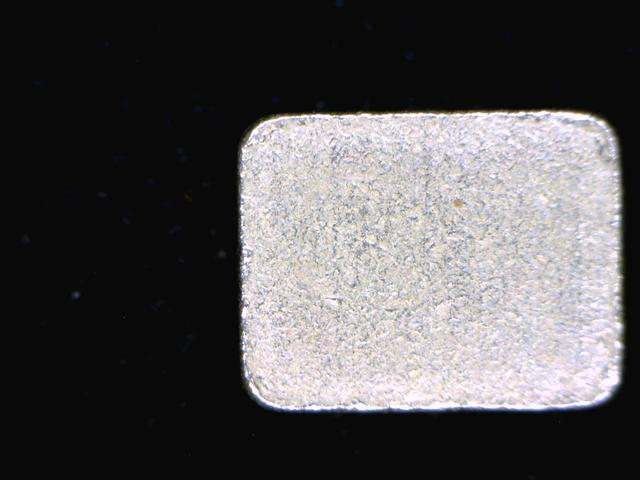ok: (234, 105, 627, 430)
